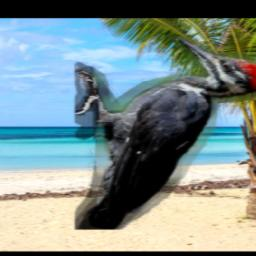Woodpecker: (75, 36, 256, 230)
